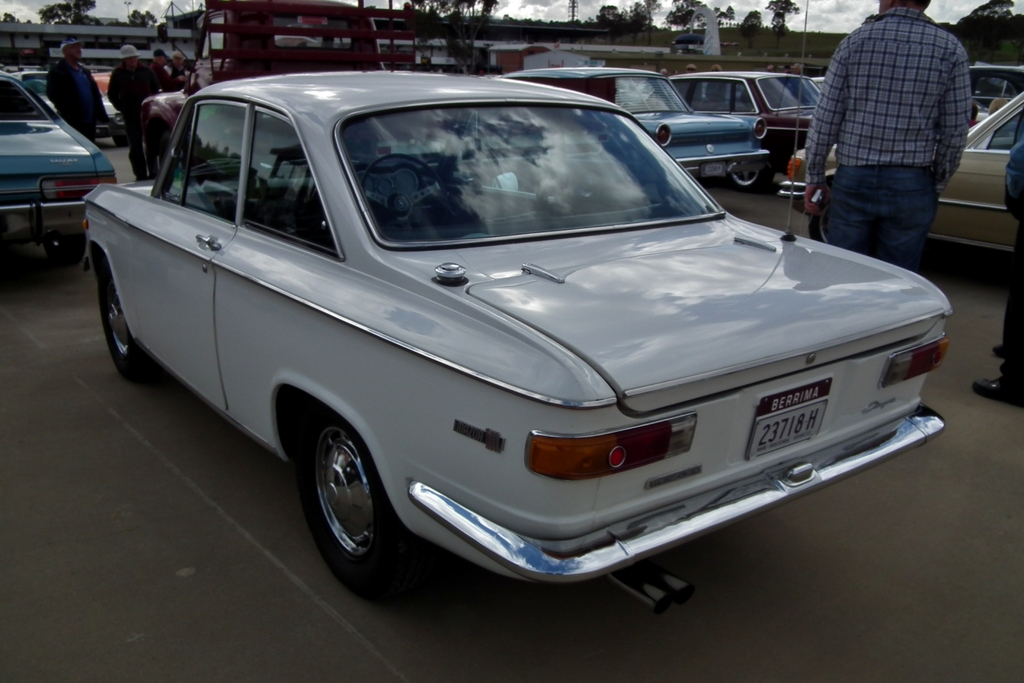Car: (0, 0, 1023, 604)
